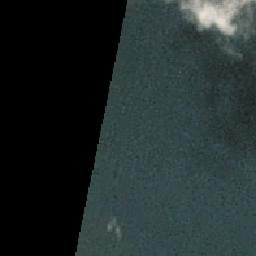cloud: (177, 2, 251, 46)
